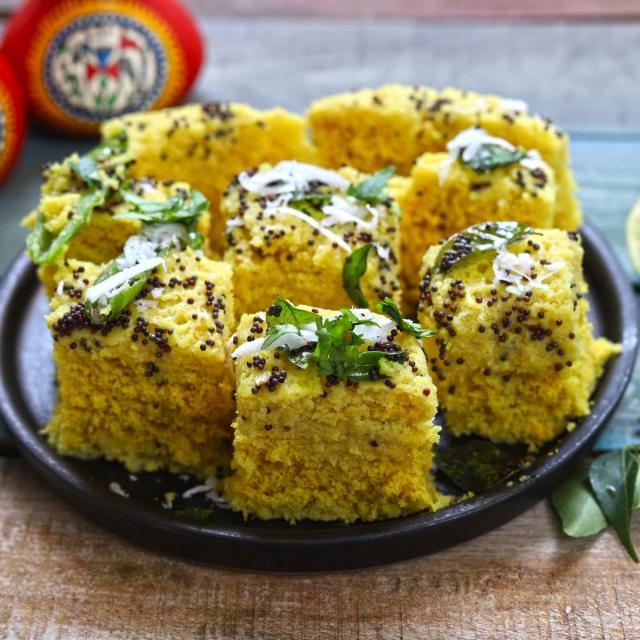dhokla: (39, 95, 583, 521)
